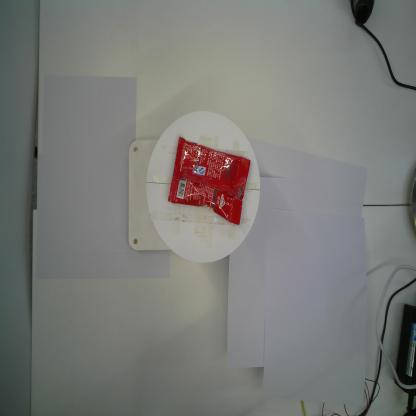Instant Drink: (168, 136, 251, 228)
